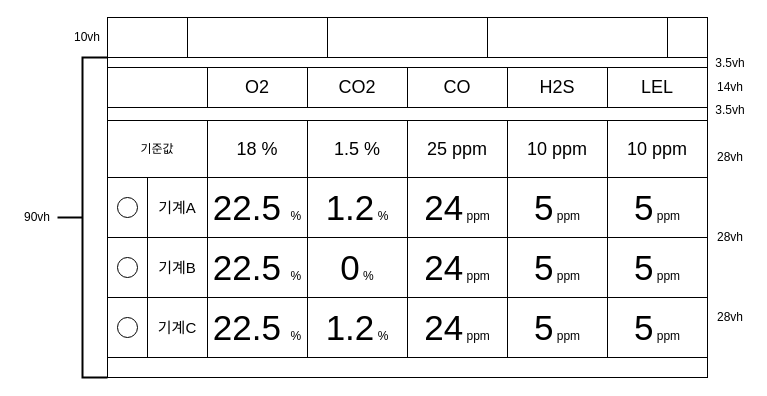
Image size: 767x396. Some labels were removed from this diagram. The shapes that lost their labels are listed below. From the top down, each one's box as (x1, y1, x2, y2) in pixels, then its label:
(106, 16, 188, 58): 로고이미지
(326, 16, 488, 58): 타이틀
(666, 16, 708, 58): 종료 버튼
